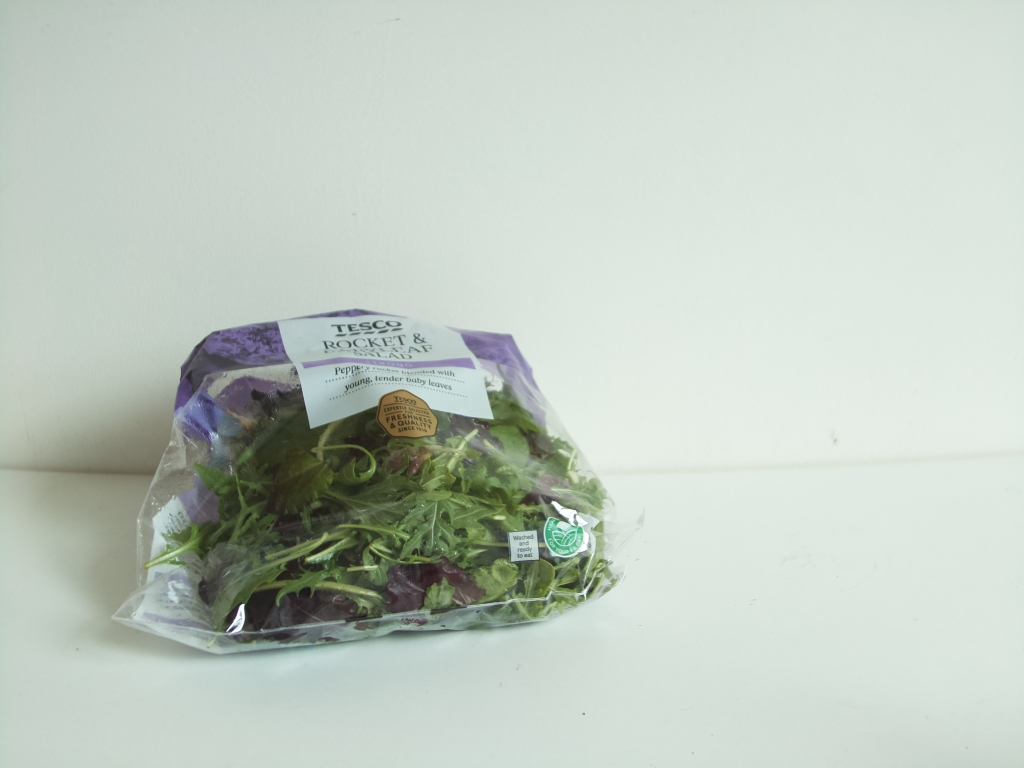salad: (129, 308, 626, 633)
